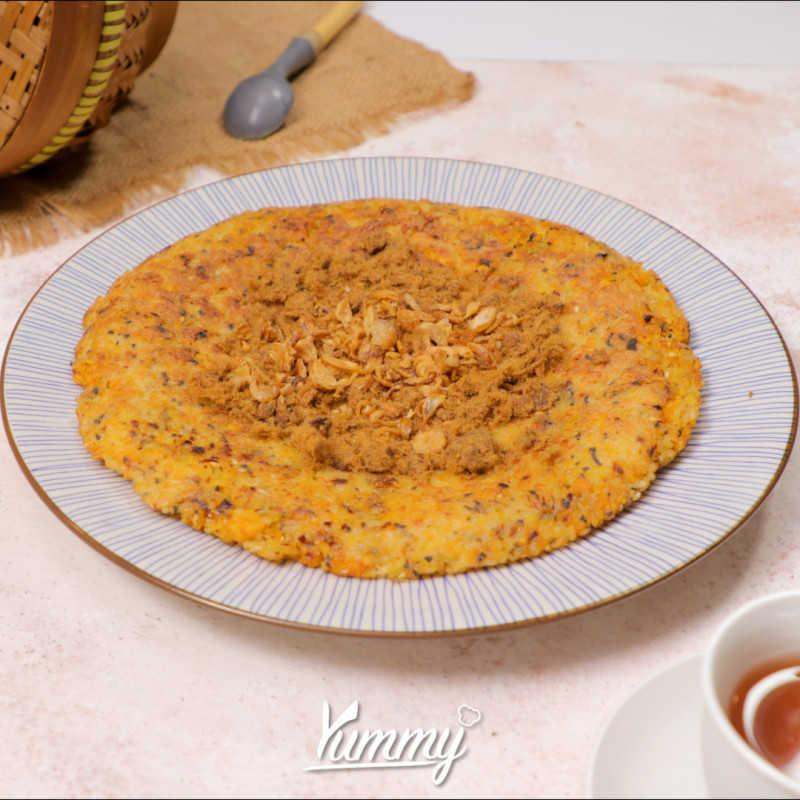kerak_telor: (73, 199, 706, 583)
